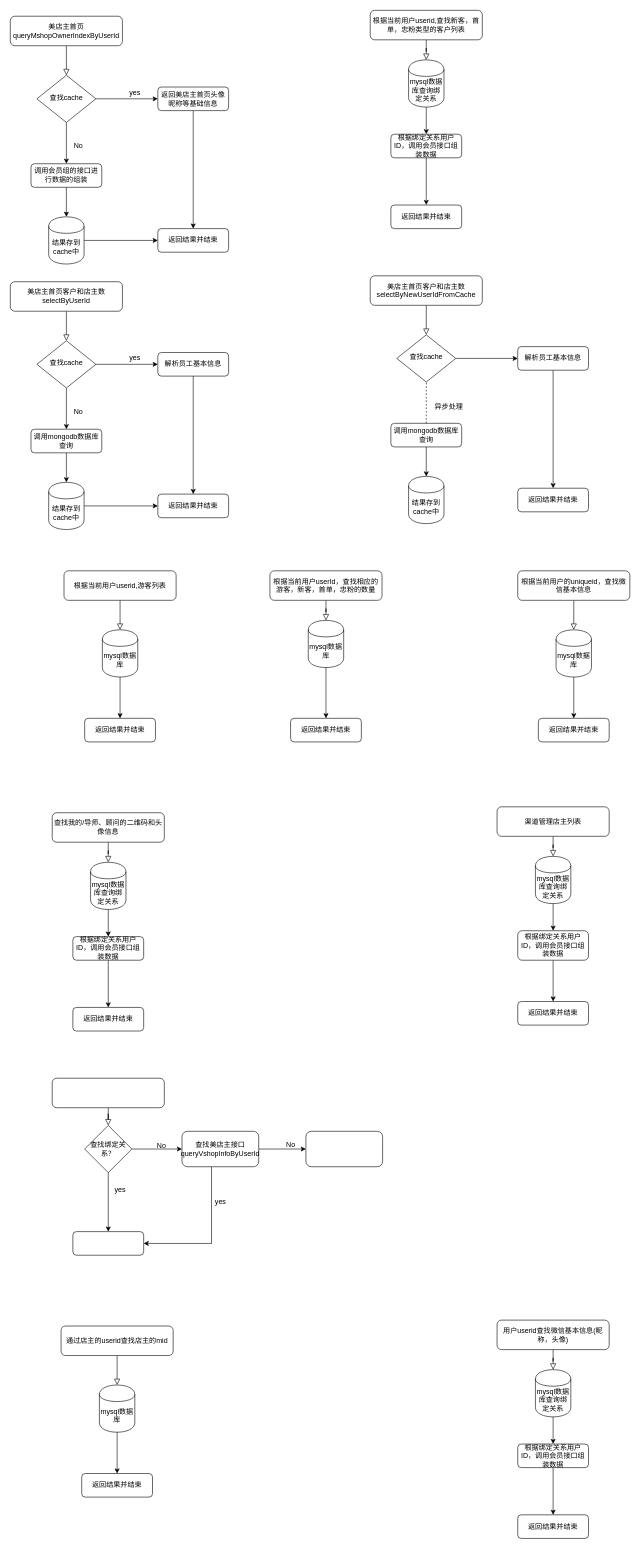
Image size: 640x1549. Some labels were removed from this diagram. The centre of each missing label's shape, as x and y in pixels:
"返回受益人并结束" goes at (x=108, y=1243).
"返回空值并结束" goes at (x=344, y=1149).
"通过当前userid查找返利归属人的信息" goes at (x=108, y=1093).
